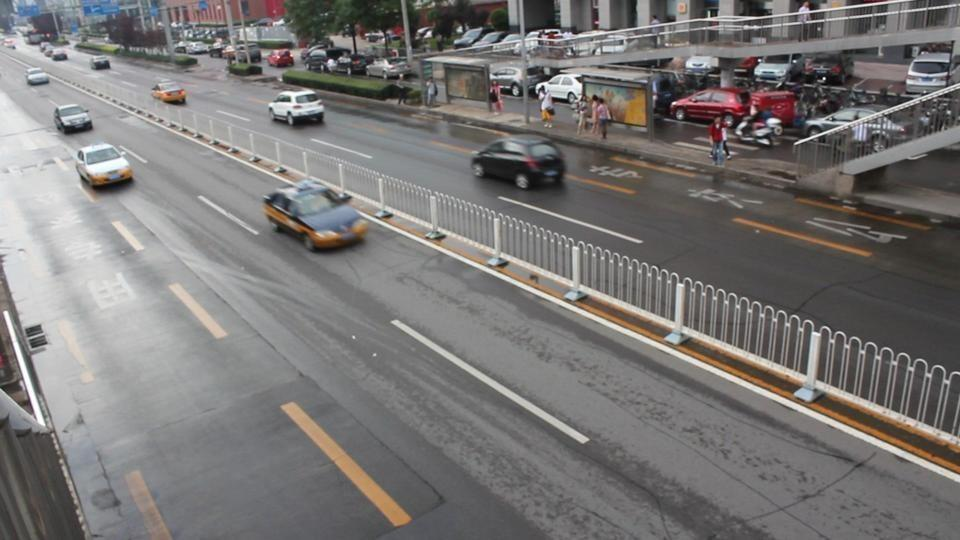car: (261, 181, 368, 251), (469, 136, 567, 190), (668, 87, 756, 125), (75, 141, 134, 189), (906, 51, 958, 94), (490, 65, 554, 98), (267, 90, 325, 126), (753, 52, 807, 87), (451, 28, 522, 51), (538, 74, 584, 104), (53, 102, 94, 134), (684, 55, 721, 79), (151, 81, 187, 105), (25, 68, 48, 86), (90, 56, 111, 70)
